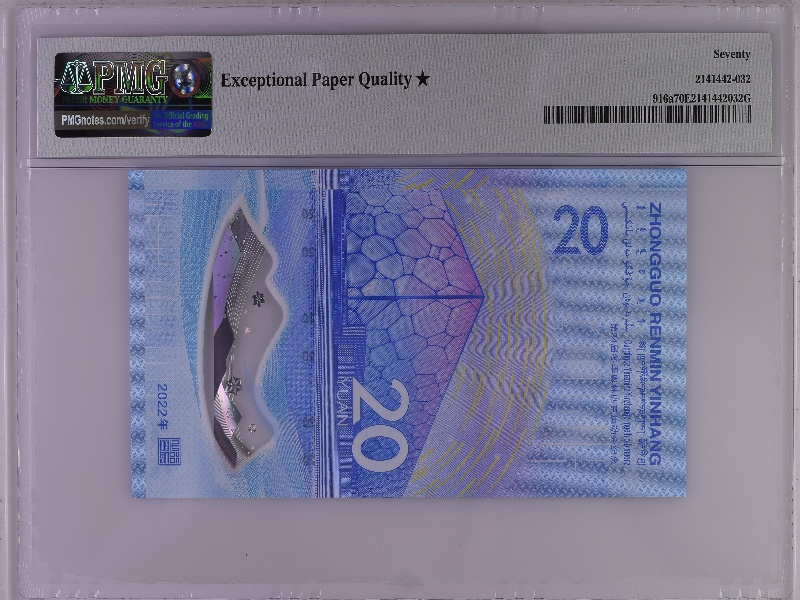papernote: (127, 167, 688, 499)
